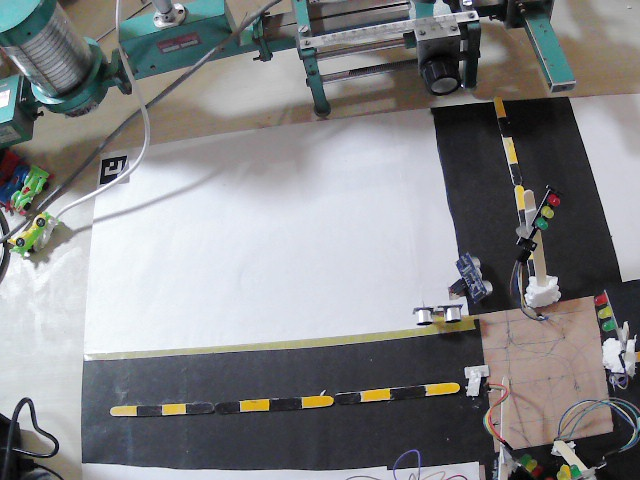aruco_marker: (100, 156, 128, 183)
black_strip: (389, 386, 427, 401), (494, 113, 511, 140), (268, 399, 300, 411), (184, 402, 212, 414), (334, 393, 360, 405), (135, 405, 161, 417), (508, 161, 522, 183), (214, 403, 241, 414), (527, 257, 536, 276), (518, 209, 524, 230)
mixed_lane: (104, 377, 458, 415), (494, 88, 528, 226)
traffic_light: (522, 189, 562, 234), (590, 285, 620, 336), (504, 443, 544, 477), (548, 458, 595, 480)
uno_breadboard: (453, 248, 494, 302), (411, 305, 466, 325)
yellow_strip: (356, 383, 388, 401), (300, 391, 332, 408), (241, 394, 269, 411), (424, 382, 451, 399), (502, 134, 516, 161), (160, 401, 184, 416), (111, 404, 135, 419), (514, 183, 524, 212), (496, 96, 506, 114)
